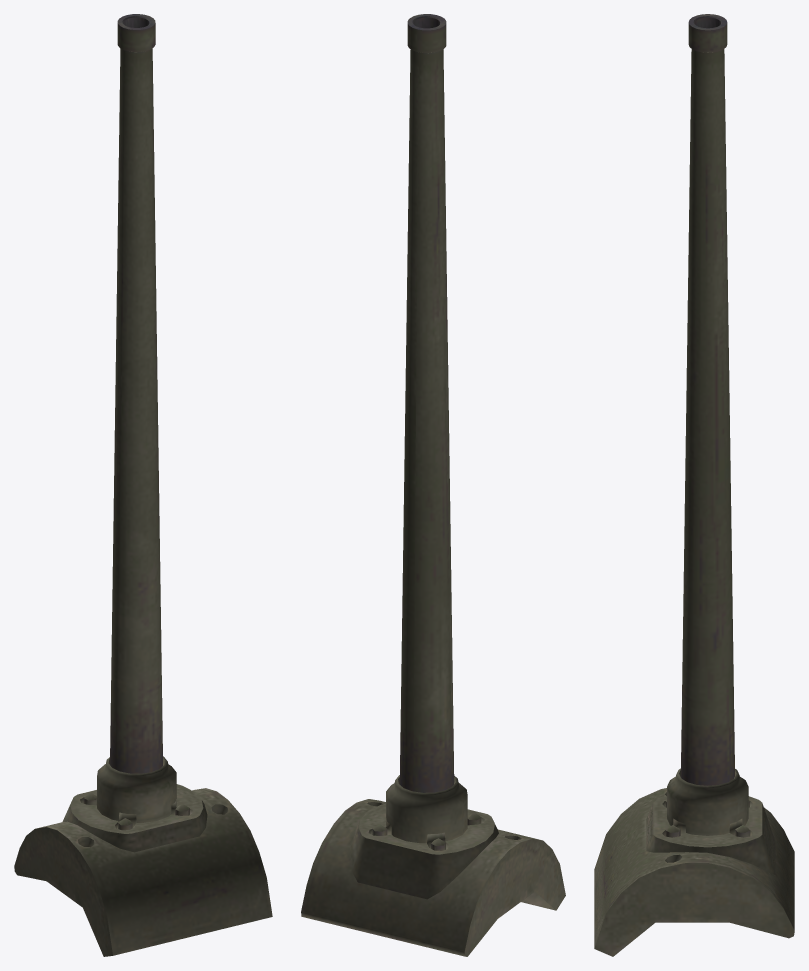
Rendered from Gun_01.glb.
The picture shows the model from 3 angles, left to right: view 1: azimuth 30°, elevation 25°; view 2: azimuth 150°, elevation 25°; view 3: azimuth 270°, elevation 25°; orthographic projection. The views are drawn at different scales.
Visible parts, largest first — view 1: set_0_group_0; view 2: set_0_group_0; view 3: set_0_group_0.
Part boxes in pixels (x1,y1,x2,y2): set_0_group_0: [14, 14, 272, 956]; set_0_group_0: [301, 14, 565, 956]; set_0_group_0: [594, 14, 794, 956].
Bounding box in the file's own units: 0.6034 × 3.18 × 0.6466.
1 material, 1 textured.
